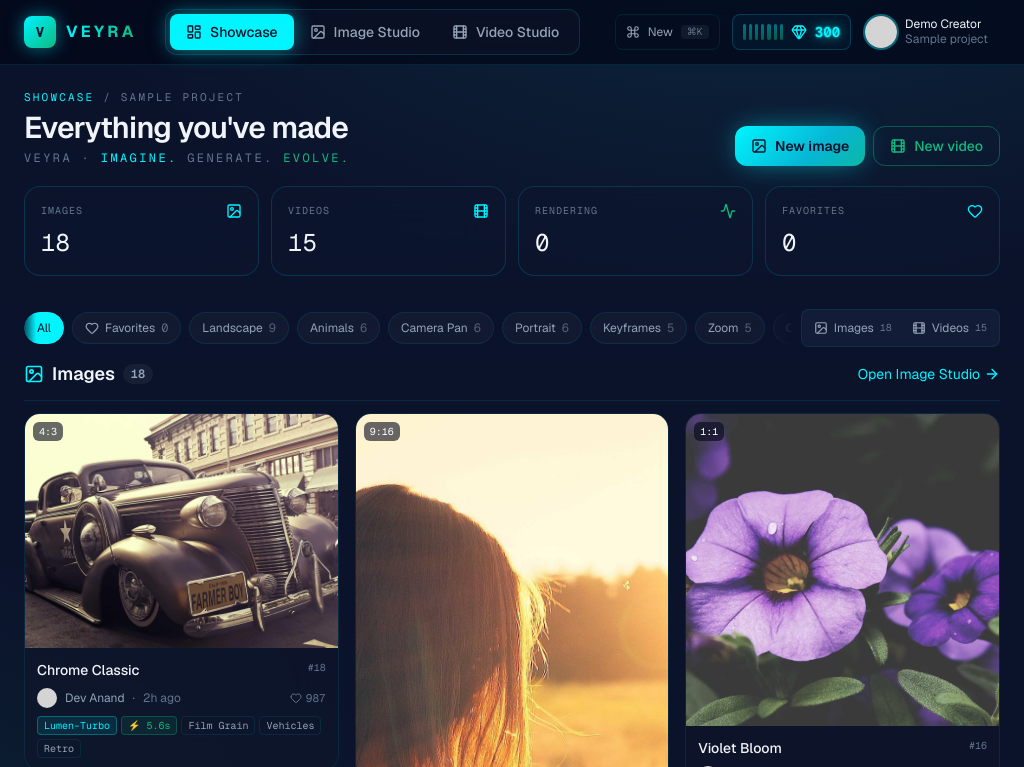
Test case: Navigation & screen switching › opens the profile drawer with projects
Check: the navigation bar named "Studios" is shown, box [165, 9, 580, 55]
Click the button with aria-label "Open profile": point(932, 32) [863, 14, 1000, 50]
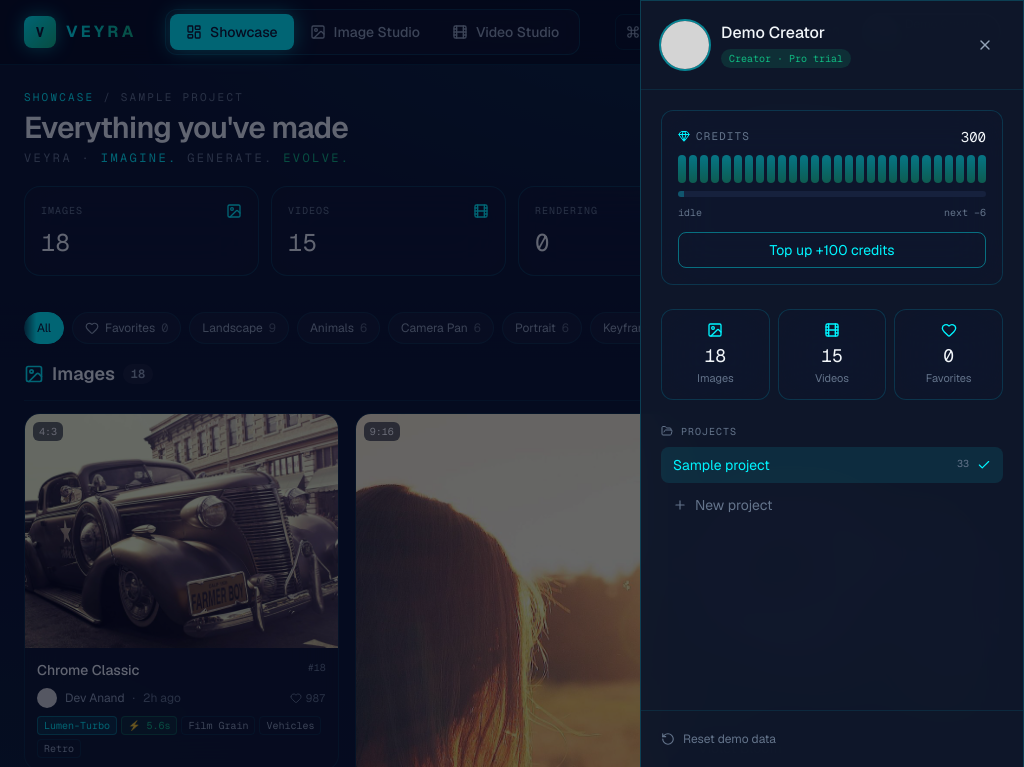
Check: the button "Sample project 33" is shown, box [661, 446, 1003, 482]
